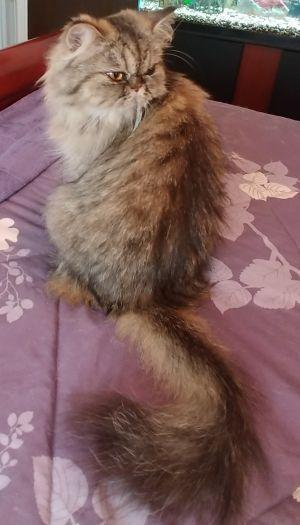persian: (46, 1, 187, 139)
